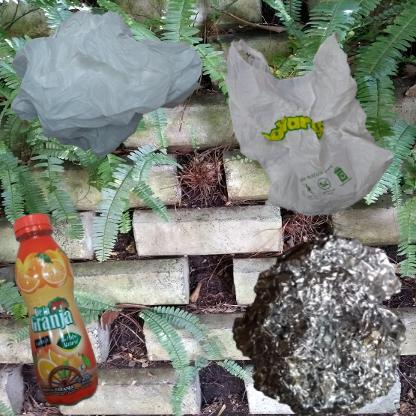aluminio: (213, 213, 416, 416)
bolsa: (213, 10, 416, 246), (10, 10, 203, 158)
botella: (10, 213, 102, 409)
